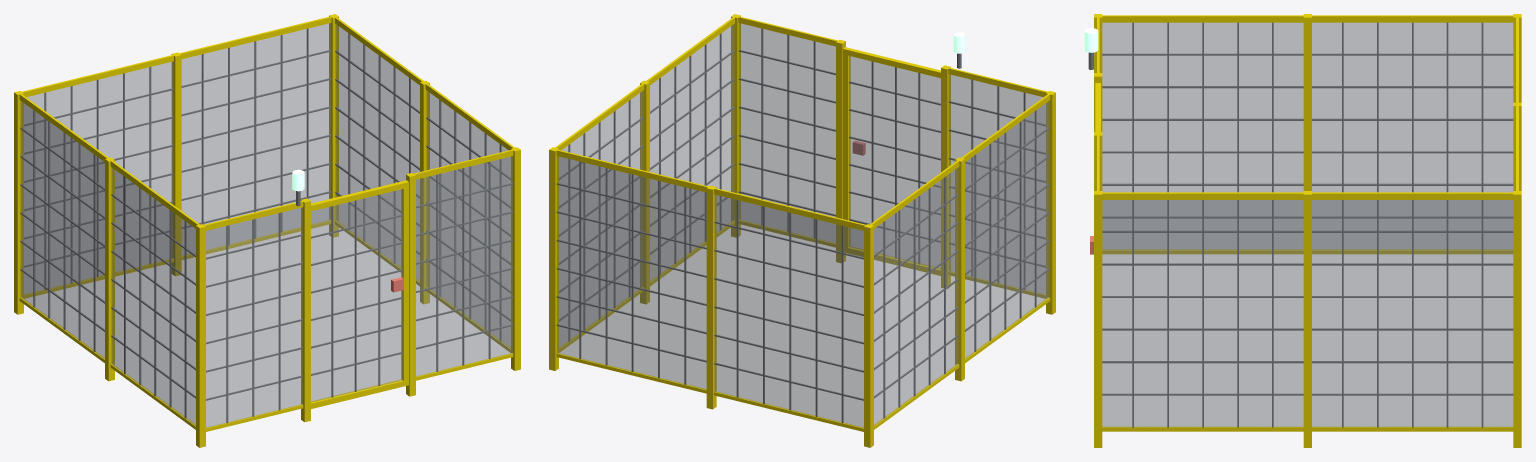
The model's file is celula.glb.
3 views of the same model, side by side, from view 1: azimuth 30°, elevation 25°; view 2: azimuth 150°, elevation 25°; view 3: azimuth 270°, elevation 25° (orthographic). The views are drawn at different scales.
Visible parts, largest first — view 1: cerca, portao; view 2: cerca, portao; view 3: cerca.
Boxes of the visible parts, x1,y1,x2,y2 form: cerca: [14, 14, 520, 447]; portao: [311, 180, 408, 408]; cerca: [549, 14, 1055, 447]; portao: [843, 47, 940, 275]; cerca: [1088, 14, 1521, 447].
Size of the model in its own units: 3.06 by 2.3 by 3.13.
